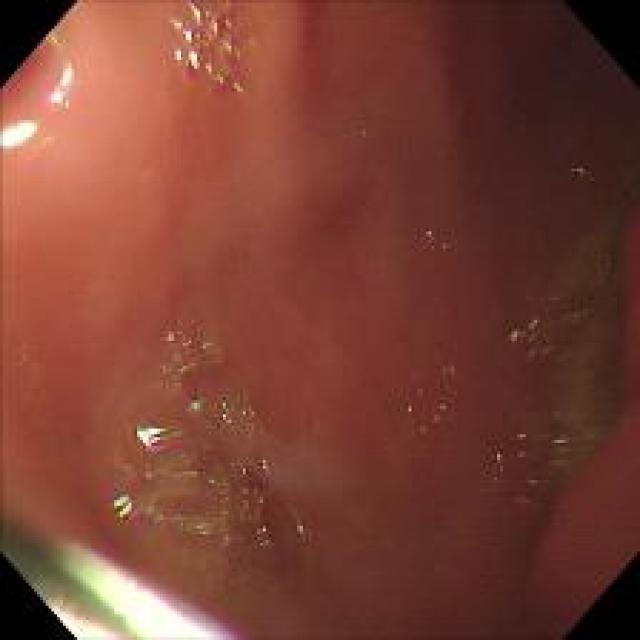bubbles: (104, 321, 312, 568), (354, 129, 369, 146)
color misalignment: (112, 328, 306, 562), (21, 529, 234, 634), (169, 4, 266, 125), (489, 419, 576, 516), (409, 359, 454, 441), (505, 320, 559, 368), (415, 216, 454, 255), (560, 151, 584, 180)
contrast: (418, 11, 624, 429)
specularity: (109, 576, 215, 639), (40, 50, 84, 122), (1, 115, 42, 159), (54, 608, 106, 636), (185, 9, 206, 71), (134, 422, 164, 446), (171, 46, 182, 64)
